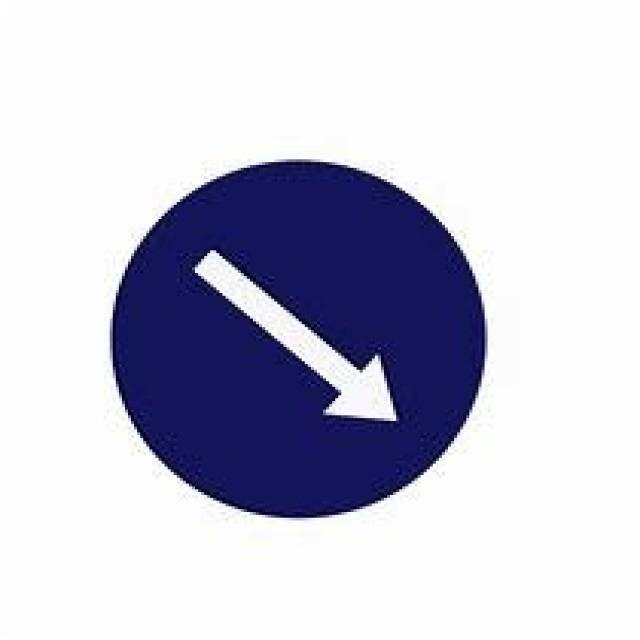R.301e: (103, 157, 490, 521)
